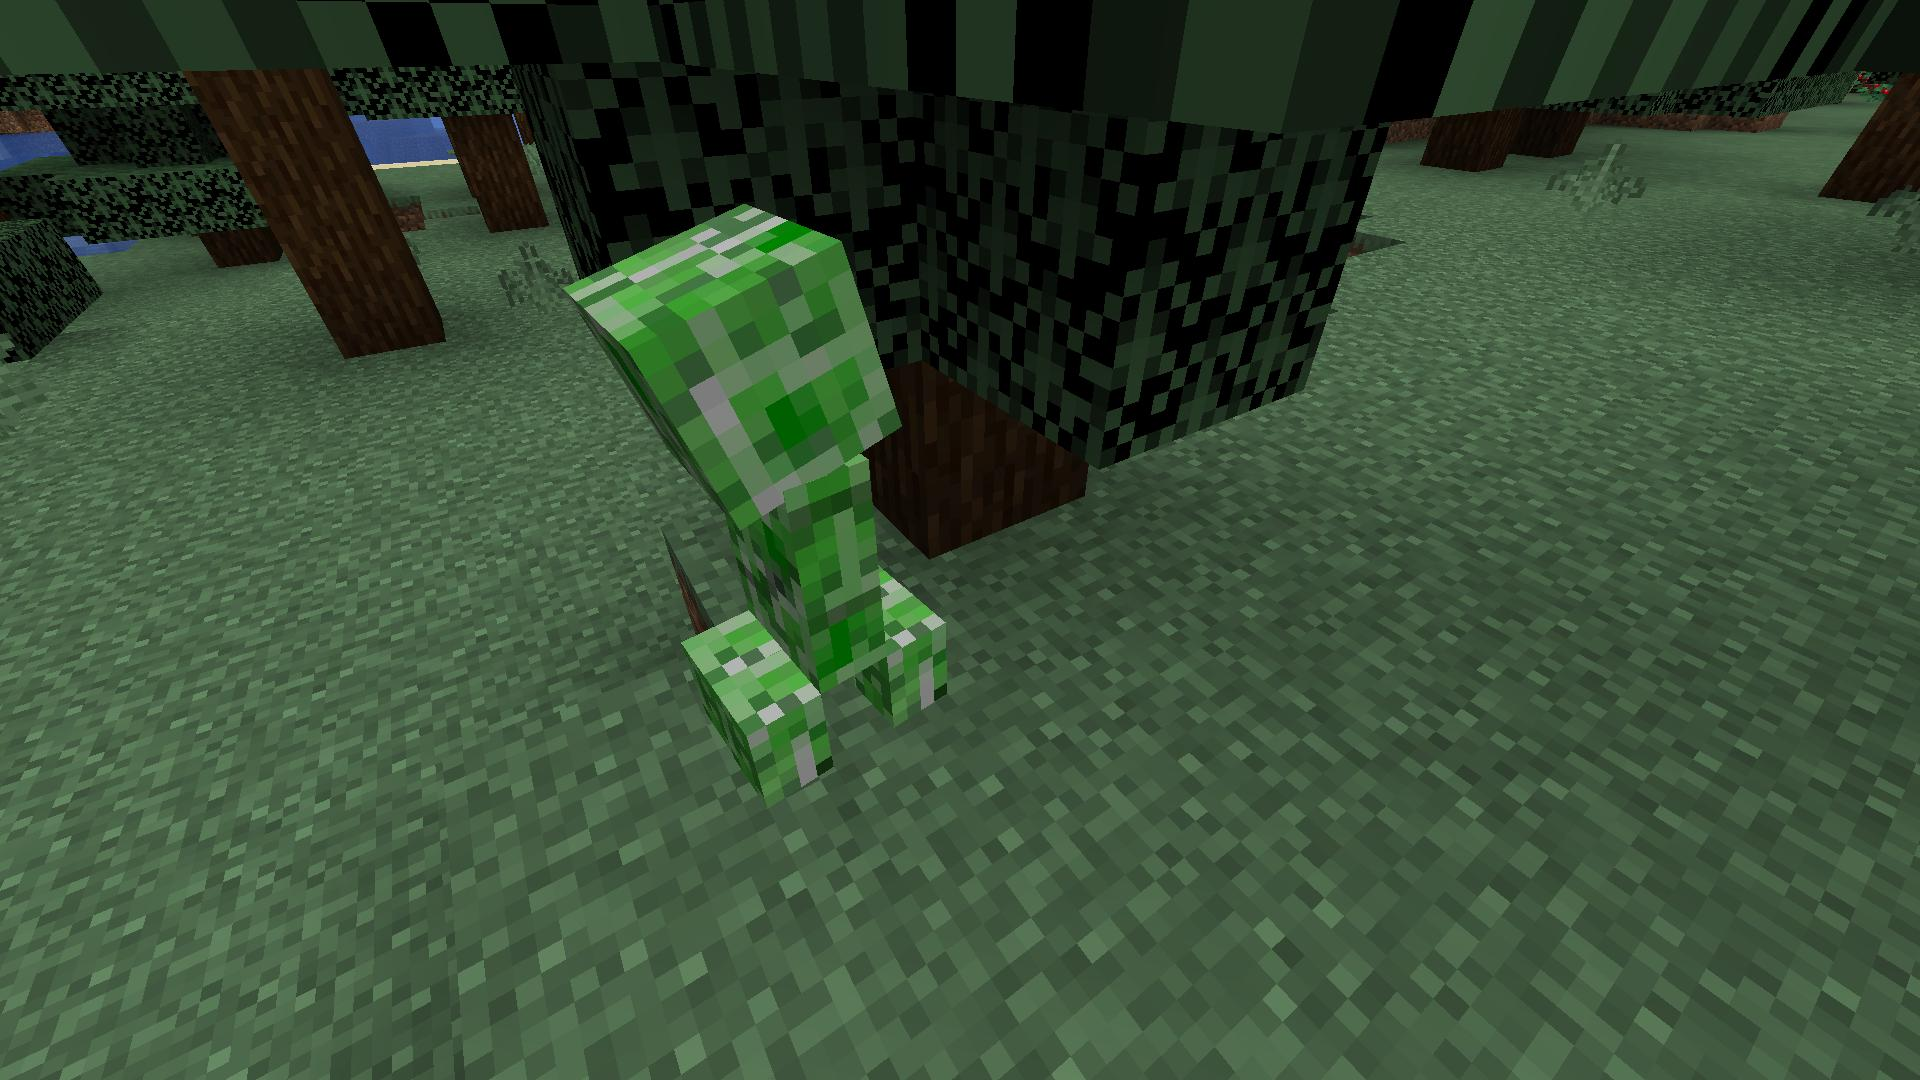creeper: (550, 190, 960, 798)
